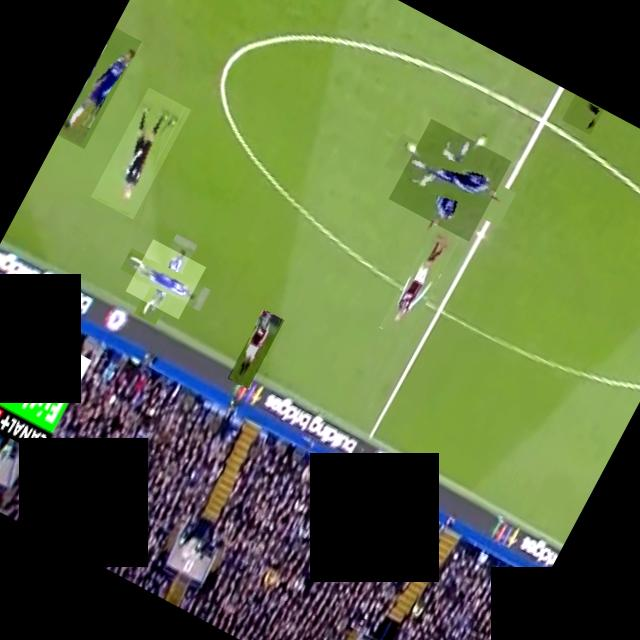referee: (90, 86, 190, 218)
soccer-player: (388, 117, 510, 240), (56, 26, 140, 148), (378, 223, 459, 340), (124, 238, 205, 318), (226, 308, 284, 388), (560, 92, 602, 134)
